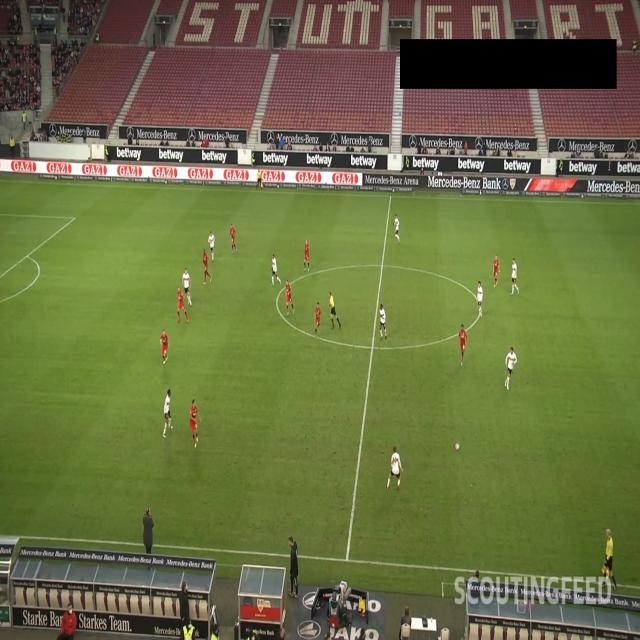ball: (454, 442, 460, 452)
